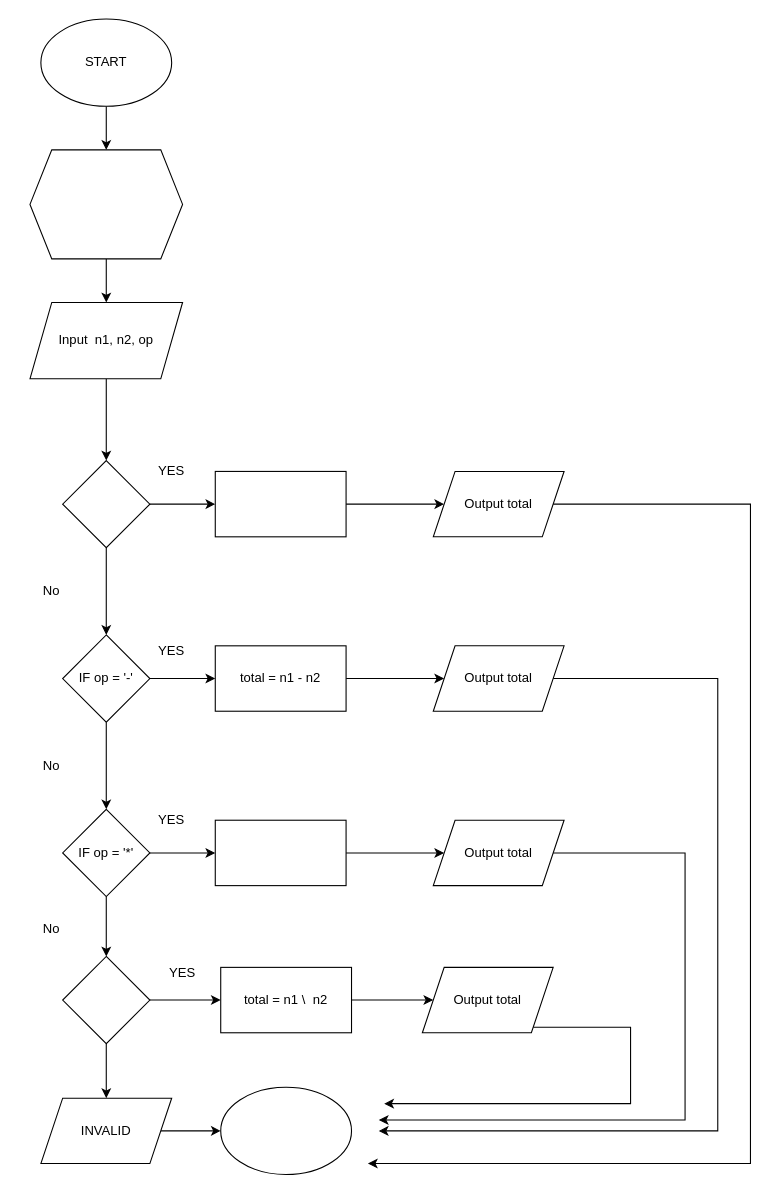
Some shapes in this 778 by 1194 pixel diagram are drawn without their labels. The shapes that lost their labels are listed below. From the top down, each one's centre as x and y in pixels, then its label:
the point at 106,204: n1 = 0, n2= 0 , total = 0, op = 0
the point at 106,503: IF op = '+'
the point at 280,503: total = n1 + n2
the point at 280,852: total = n1 * n2
the point at 106,999: IF op = '\'
the point at 286,1130: END
